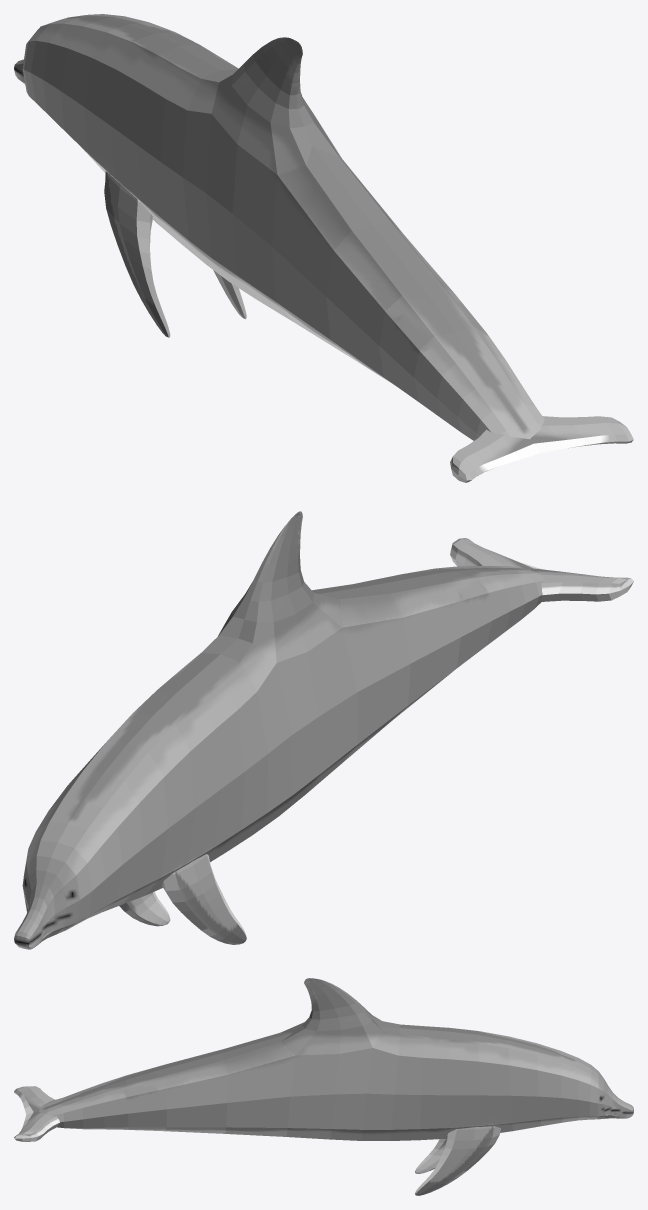
The model's file is Dolphin.gltf.
3 views of the same model, one above another, from view 1: azimuth 30°, elevation 25°; view 2: azimuth 150°, elevation 25°; view 3: azimuth 270°, elevation 25° (orthographic). The views are drawn at different scales.
Visible parts, largest first — view 1: Cube, Cube.002, Cube.001; view 2: Cube, Cube.001, Cube.002; view 3: Cube, Cube.001, Cube.002.
Boxes of the visible parts, x1,y1,x2,y2 form: Cube: (14, 14, 544, 440); Cube.002: (450, 416, 633, 482); Cube.001: (104, 171, 246, 337); Cube: (14, 511, 544, 949); Cube.001: (119, 854, 246, 944); Cube.002: (450, 538, 633, 601); Cube: (38, 978, 633, 1140); Cube.001: (415, 1126, 500, 1195); Cube.002: (14, 1086, 59, 1141).
Bounding box in the file's own units: 1.9 × 3.74 × 10.17.
Materials: 1 (1 with a texture image).
